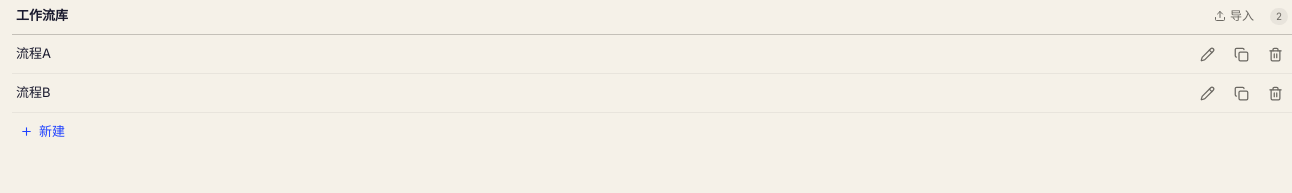
WorkflowLibrary 工作流库（应用级） › 克隆后出现副本
Check: the text "流程A" is shown, box top-left (16, 45), bottom-right (51, 61)
Click the button named "克隆 流程A": click(1241, 54) top-left (1228, 41), bottom-right (1254, 67)
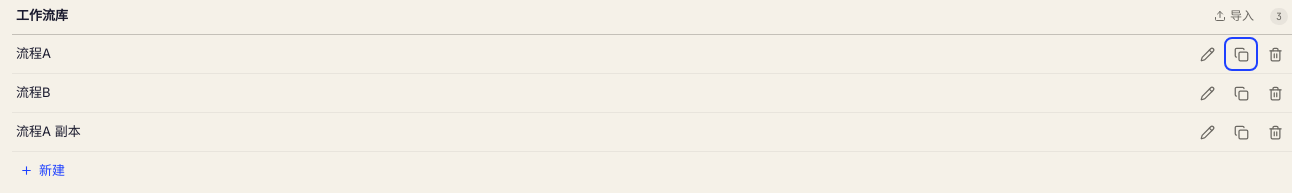
Check: the text "流程A 副本" is shown, box top-left (16, 123), bottom-right (81, 139)
